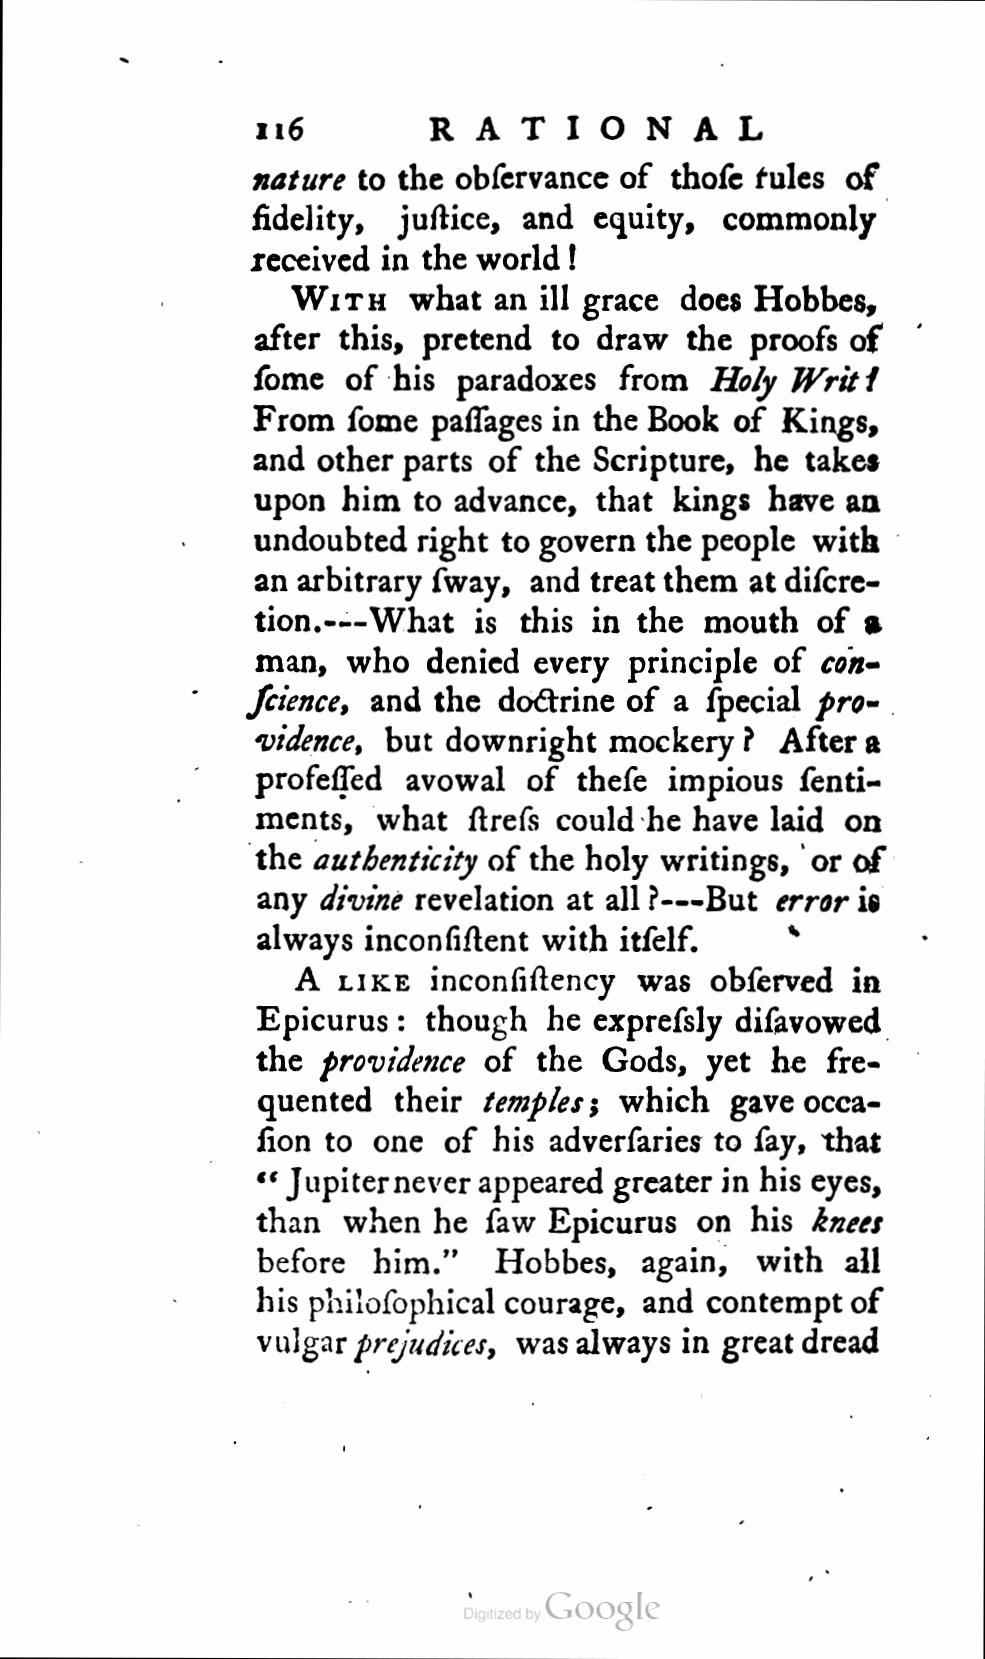bottom_p: (246, 164, 884, 276)
full_p: (247, 276, 888, 956)
header: (424, 104, 772, 148)
page_num: (247, 106, 314, 144)
top_p: (254, 956, 886, 1364)
